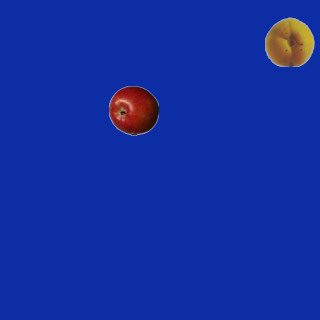Apple Braeburn: (108, 85, 158, 135)
Peach 2: (264, 16, 314, 66)
